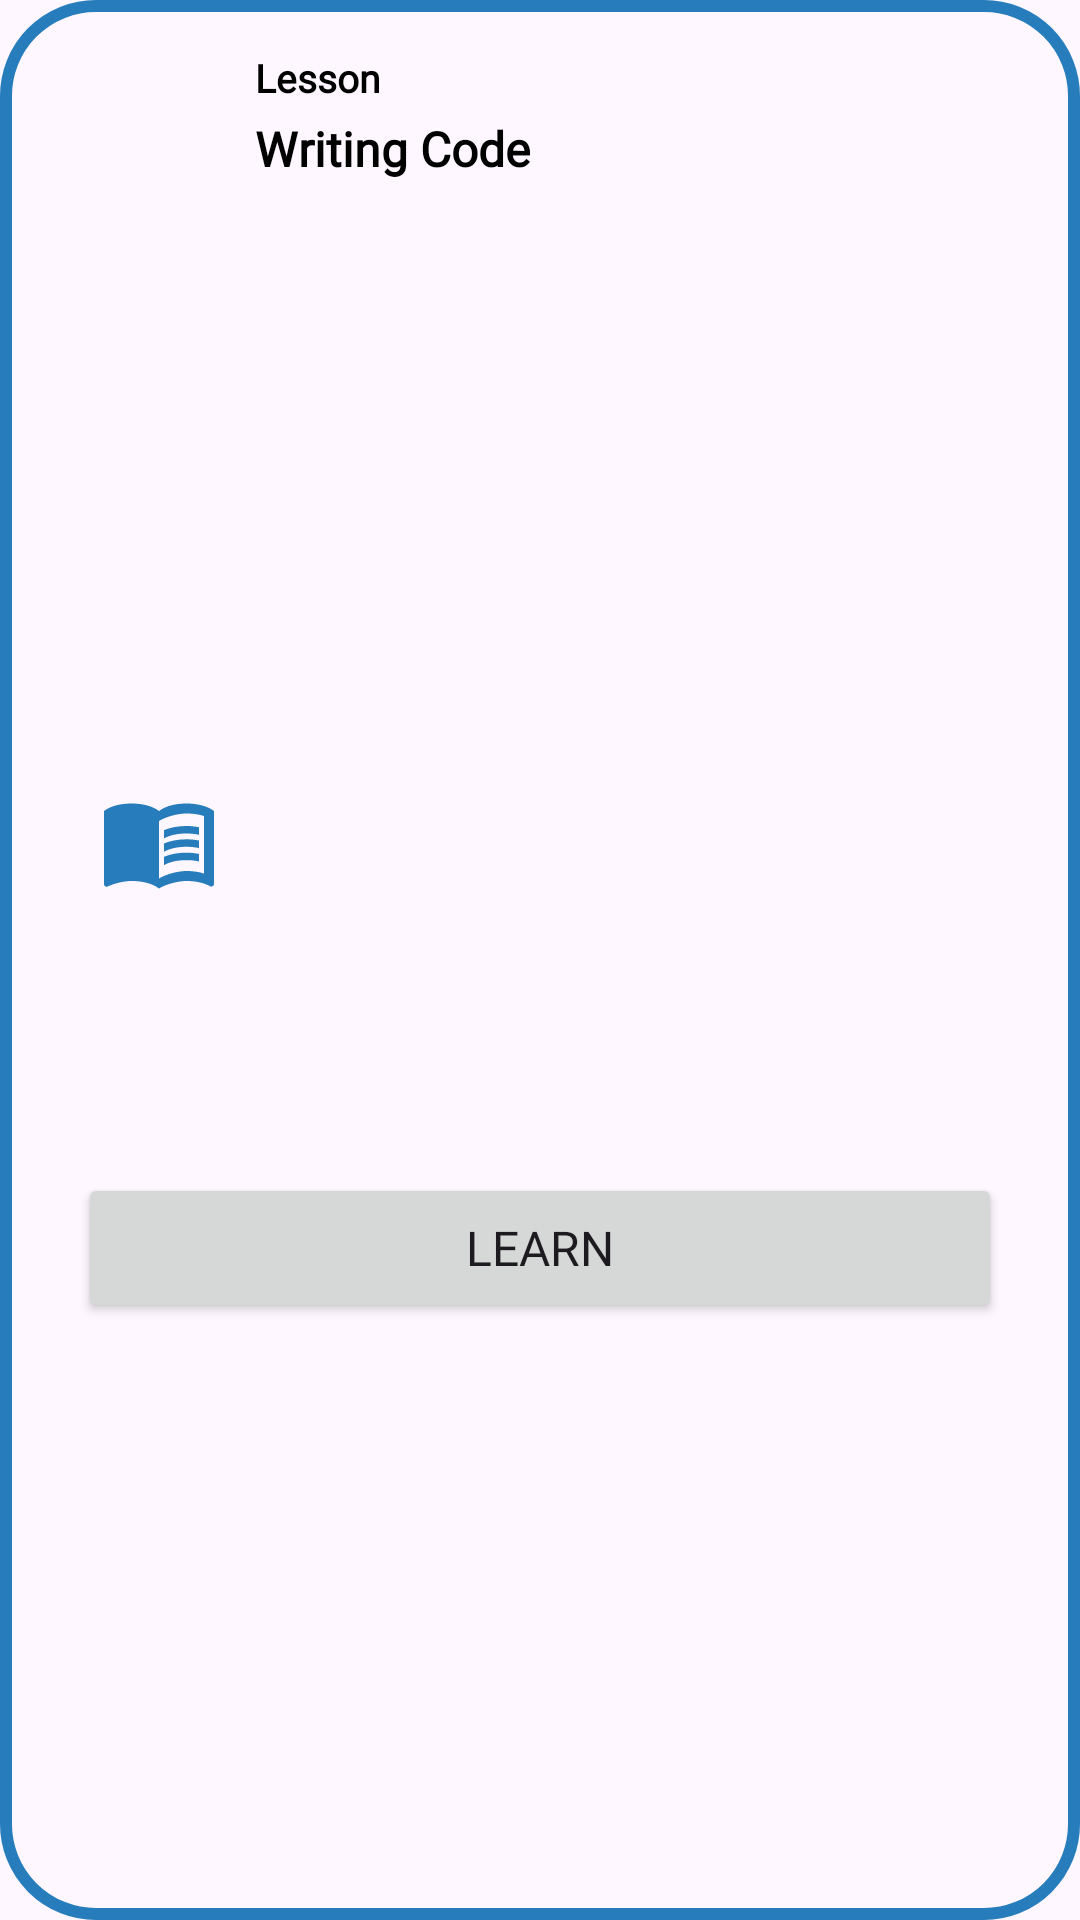

Screen size 1080w x 1920h. Icon name, then its box in pixels as (x1, y1, x2, y2):
book: (104, 803, 214, 889)
